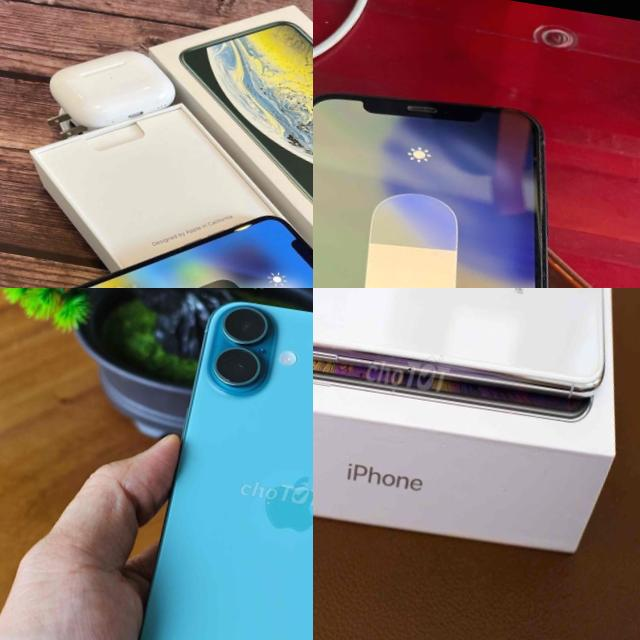gen_12_13: (313, 67, 615, 288)
gen_16: (101, 288, 313, 640)
gen_x_xs: (313, 288, 640, 467), (0, 174, 313, 288)
